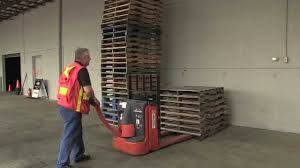Pallet Jack: (86, 97, 195, 157)
